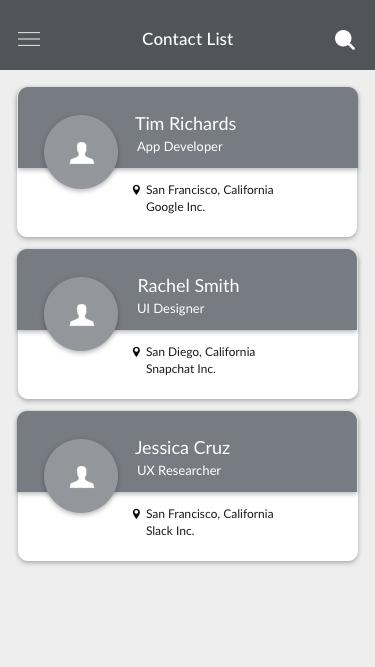Icon: (44, 277, 120, 350), (45, 439, 119, 513), (45, 116, 120, 189), (334, 30, 357, 51), (18, 32, 43, 47), (132, 347, 141, 358), (133, 185, 141, 197), (133, 509, 141, 519)
Text: (145, 185, 275, 214), (146, 508, 273, 537), (146, 347, 255, 376), (135, 115, 238, 132), (139, 278, 240, 294), (135, 441, 232, 455), (143, 33, 236, 47), (137, 141, 225, 155), (138, 465, 222, 476), (138, 303, 205, 316)
Toolbar: (1, 1, 375, 71)
